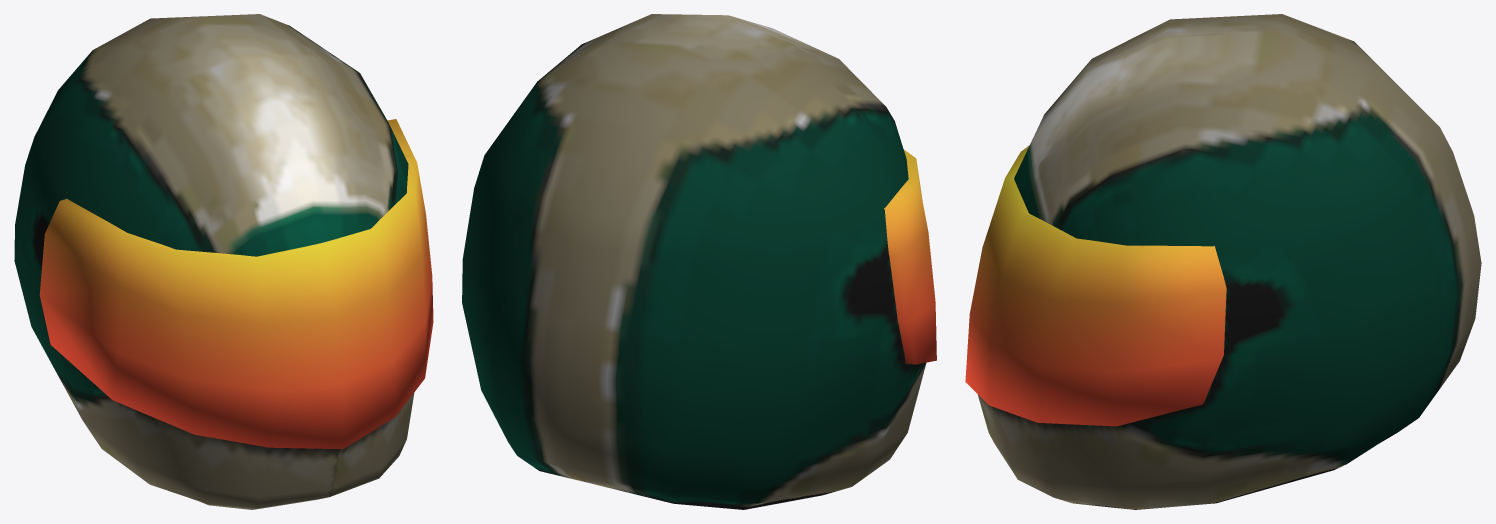
Rendered from WingsuitPlayer2Head2.fbx.
3 renders of one model, left to right at view 1: azimuth 30°, elevation 25°; view 2: azimuth 150°, elevation 25°; view 3: azimuth 270°, elevation 25°, orthographic. The views are drawn at different scales.
Visible parts, largest first — view 1: driverhelmet, drivervisor; view 2: driverhelmet, drivervisor; view 3: driverhelmet, drivervisor.
Boxes of the visible parts, x1,y1,x2,y2 form: driverhelmet: [14, 14, 414, 509]; drivervisor: [39, 119, 433, 449]; driverhelmet: [462, 14, 926, 509]; drivervisor: [884, 149, 936, 364]; driverhelmet: [977, 14, 1481, 509]; drivervisor: [965, 145, 1226, 426].
Size of the model in its own units: 52.68 by 54.58 by 59.67.
2 materials, 2 textured.
